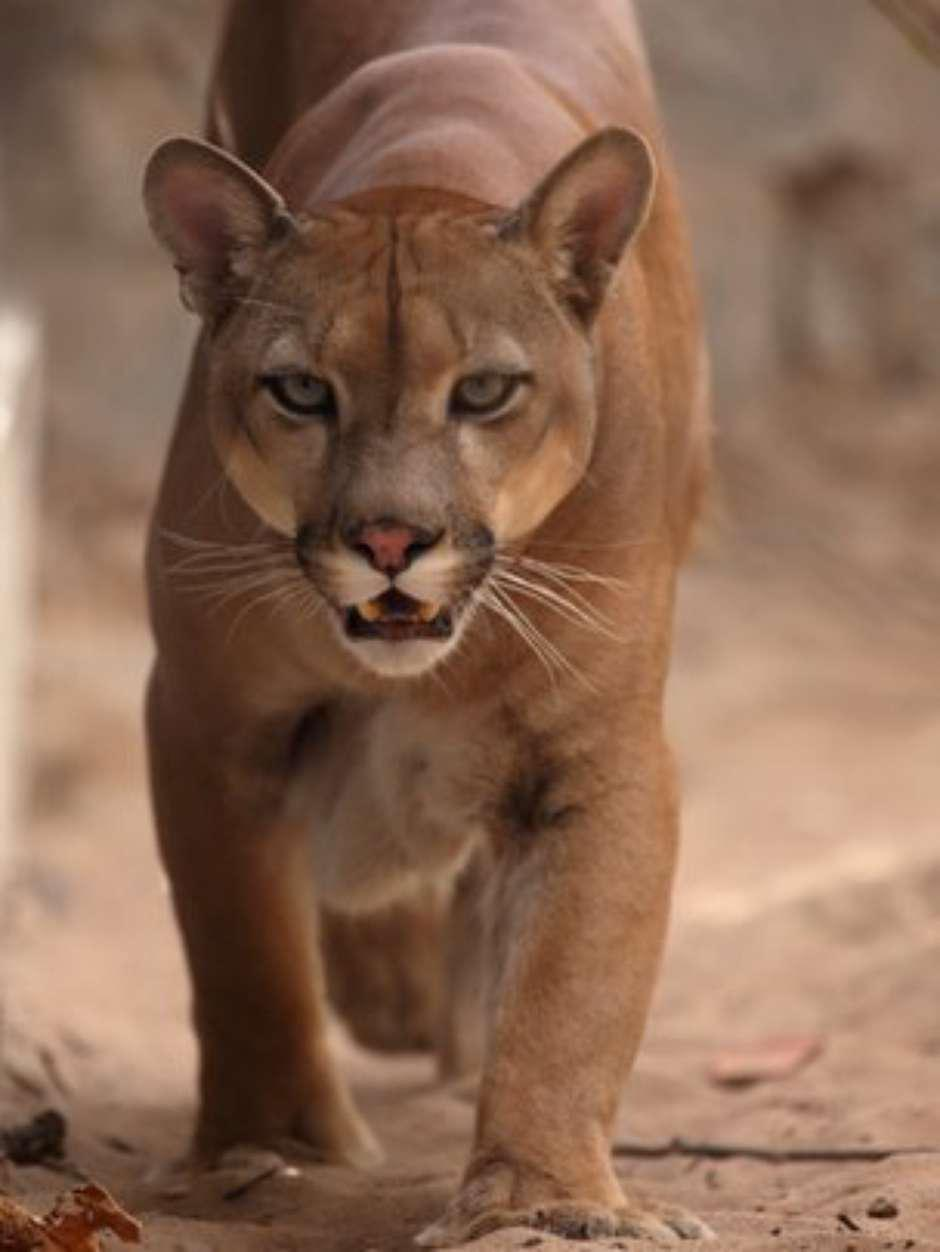OncaParda: (140, 9, 711, 1252)
